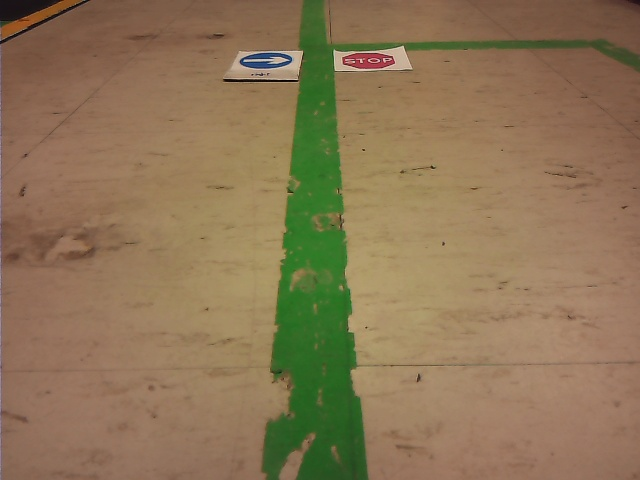STOP: (343, 52, 394, 69)
TURN RIGHT: (240, 52, 293, 68)
